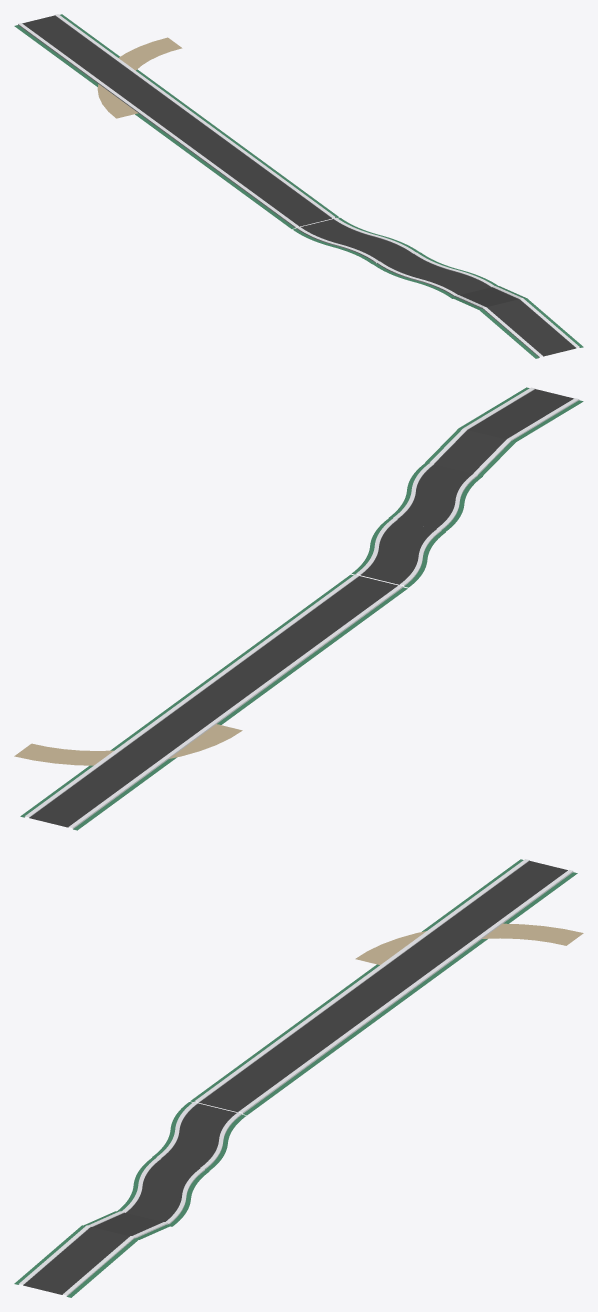
File: track_c10.glb
The picture shows the model from 3 angles, top to bottom: view 1: azimuth 30°, elevation 25°; view 2: azimuth 150°, elevation 25°; view 3: azimuth 330°, elevation 25°; orthographic projection. The views are drawn at different scales.
Parts seen in each view (by area): view 1: mesh_id8, mesh_id7, mesh_id18, mesh_id6, mesh_id21, mesh_id29, node_id25, mesh_id13, mesh_id22, mesh_id17, mesh_id30, mesh_id16 (+1 smaller); view 2: mesh_id8, mesh_id7, mesh_id6, mesh_id21, mesh_id29, mesh_id18, node_id25, mesh_id13, mesh_id17, mesh_id22, mesh_id30, mesh_id31 (+1 smaller); view 3: mesh_id8, mesh_id7, mesh_id18, mesh_id6, mesh_id21, mesh_id29, node_id25, mesh_id13, mesh_id17, mesh_id16, mesh_id22, mesh_id30 (+2 smaller).
Part boxes in pixels (left/top/right/bottom): mesh_id8: left=22, top=15, right=331, bottom=226; mesh_id7: left=18, top=14, right=335, bottom=227; mesh_id18: left=487, top=299, right=575, bottom=356; mesh_id6: left=14, top=14, right=339, bottom=228; mesh_id21: left=301, top=219, right=412, bottom=261; mesh_id29: left=381, top=254, right=490, bottom=294; node_id25: left=97, top=37, right=182, bottom=118; mesh_id13: left=459, top=287, right=518, bottom=306; mesh_id22: left=296, top=217, right=415, bottom=262; mesh_id17: left=482, top=298, right=579, bottom=357; mesh_id30: left=376, top=252, right=494, bottom=296; mesh_id16: left=479, top=298, right=583, bottom=358; mesh_id8: left=29, top=576, right=397, bottom=827; mesh_id7: left=24, top=574, right=403, bottom=828; mesh_id6: left=20, top=574, right=407, bottom=830; mesh_id21: left=360, top=520, right=436, bottom=584; mesh_id29: left=397, top=464, right=472, bottom=529; mesh_id18: left=468, top=389, right=573, bottom=439; node_id25: left=14, top=724, right=242, bottom=765; mesh_id13: left=434, top=430, right=505, bottom=473; mesh_id17: left=463, top=387, right=579, bottom=440; mesh_id22: left=356, top=518, right=441, bottom=586; mesh_id30: left=393, top=463, right=477, bottom=529; mesh_id31: left=389, top=463, right=482, bottom=531; mesh_id8: left=199, top=860, right=567, bottom=1112; mesh_id7: left=194, top=859, right=573, bottom=1113; mesh_id18: left=23, top=1227, right=129, bottom=1294; mesh_id6: left=190, top=859, right=577, bottom=1115; mesh_id21: left=161, top=1103, right=236, bottom=1168; mesh_id29: left=126, top=1159, right=199, bottom=1221; node_id25: left=355, top=923, right=583, bottom=964; mesh_id13: left=93, top=1212, right=162, bottom=1236; mesh_id17: left=18, top=1225, right=134, bottom=1296; mesh_id16: left=14, top=1225, right=138, bottom=1297; mesh_id22: left=156, top=1102, right=241, bottom=1169; mesh_id30: left=121, top=1157, right=204, bottom=1224.
Size of the model in its own units: 0.512 by 0.0414 by 3.45.
Materials: 16 (16 with a texture image).
